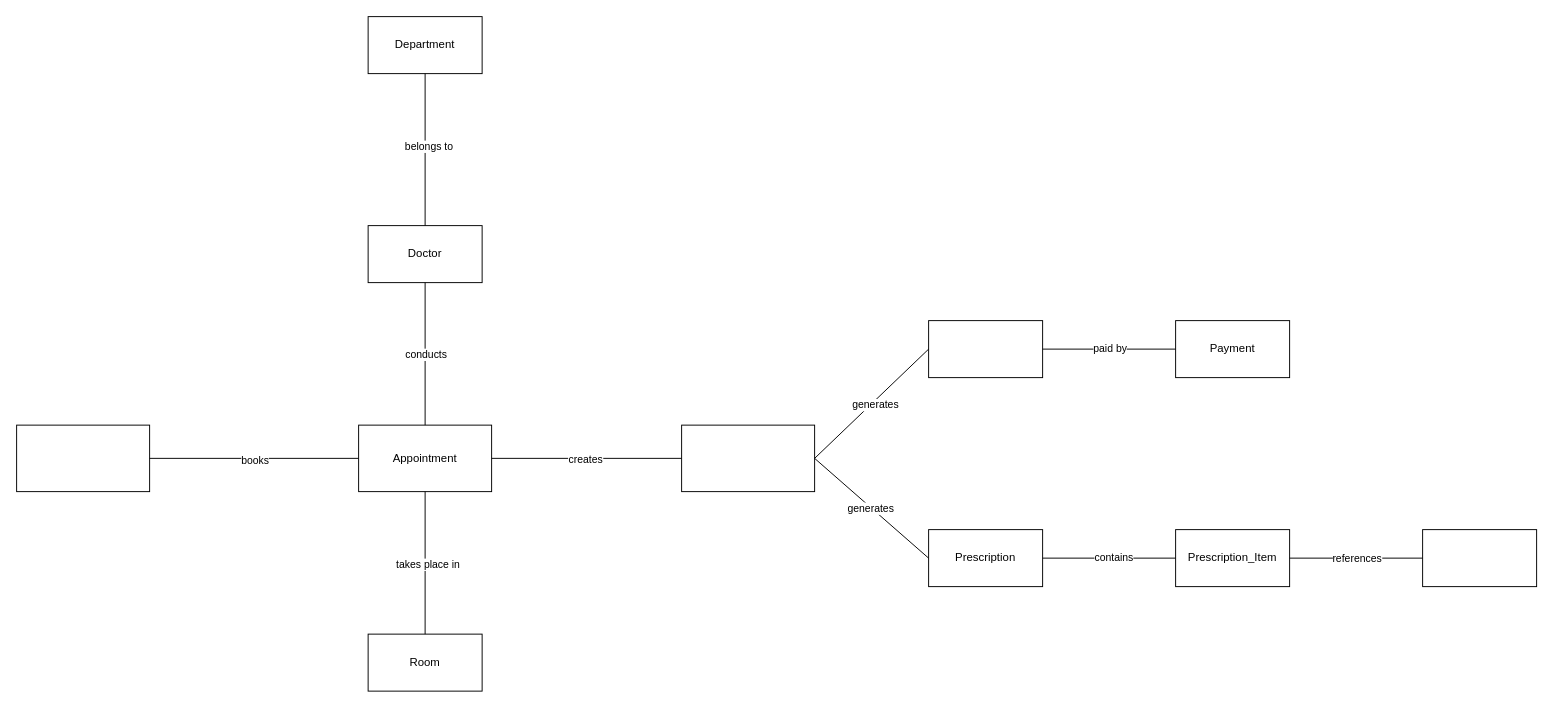
The diagram is 1553 pixels wide and 708 high, and some of its shapes have lost their labels. The centre of each missing label's shape, as x and y in pixels:
"Invoice" belongs at point (985, 349).
"Medical_Record" belongs at point (748, 458).
"Medicine" belongs at point (1479, 558).
"Patient" belongs at point (83, 458).
